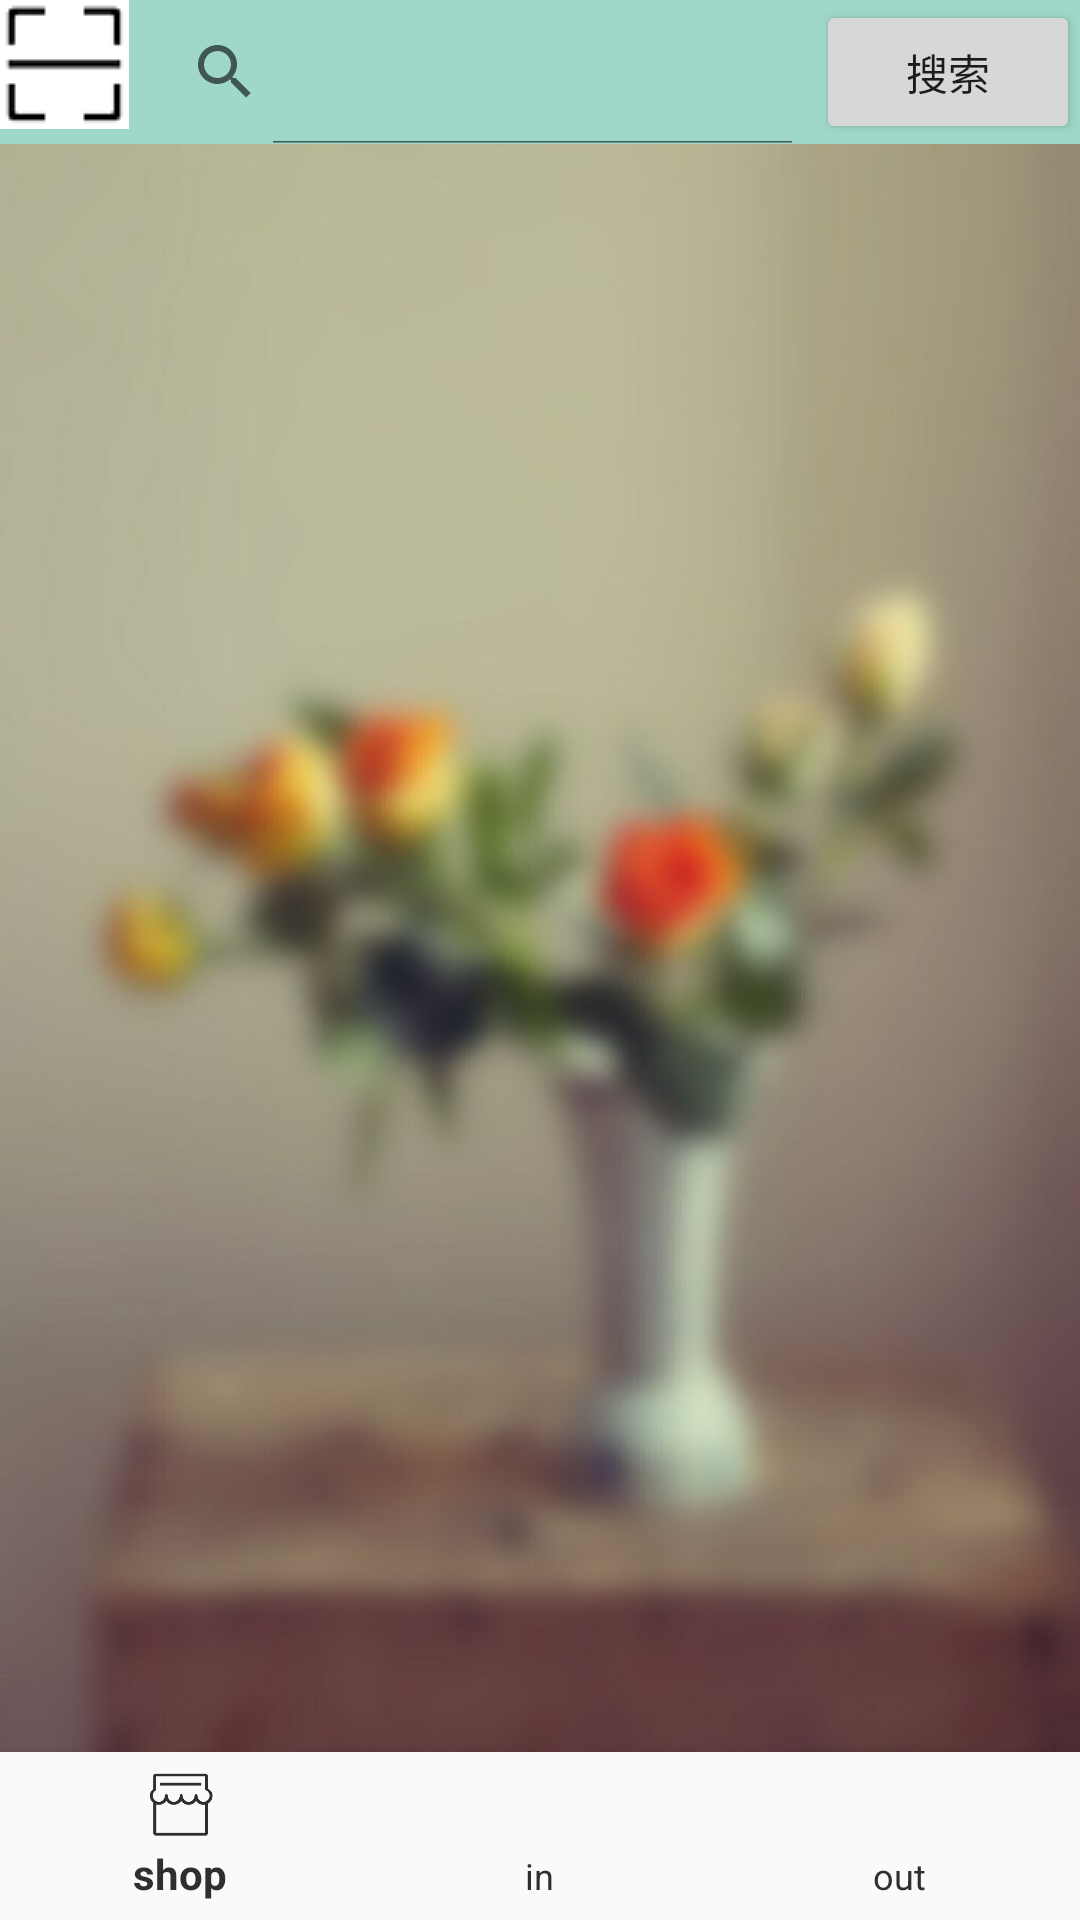

Screen size 1080x1920. Icon name, then its center in pixels as (x,y):
scan: (64,64)
